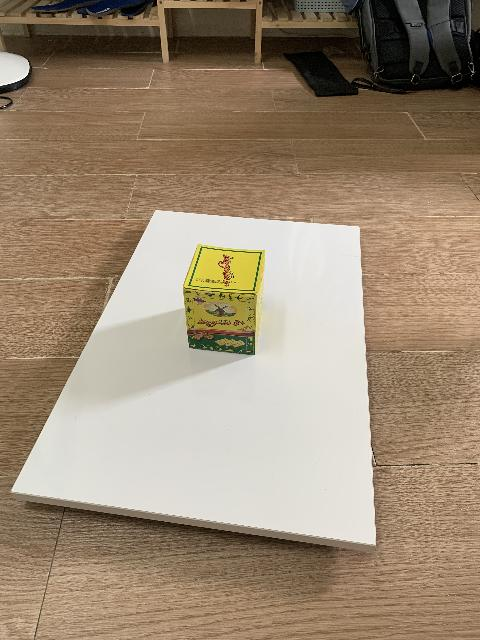luong_kho: (182, 245, 265, 359)
